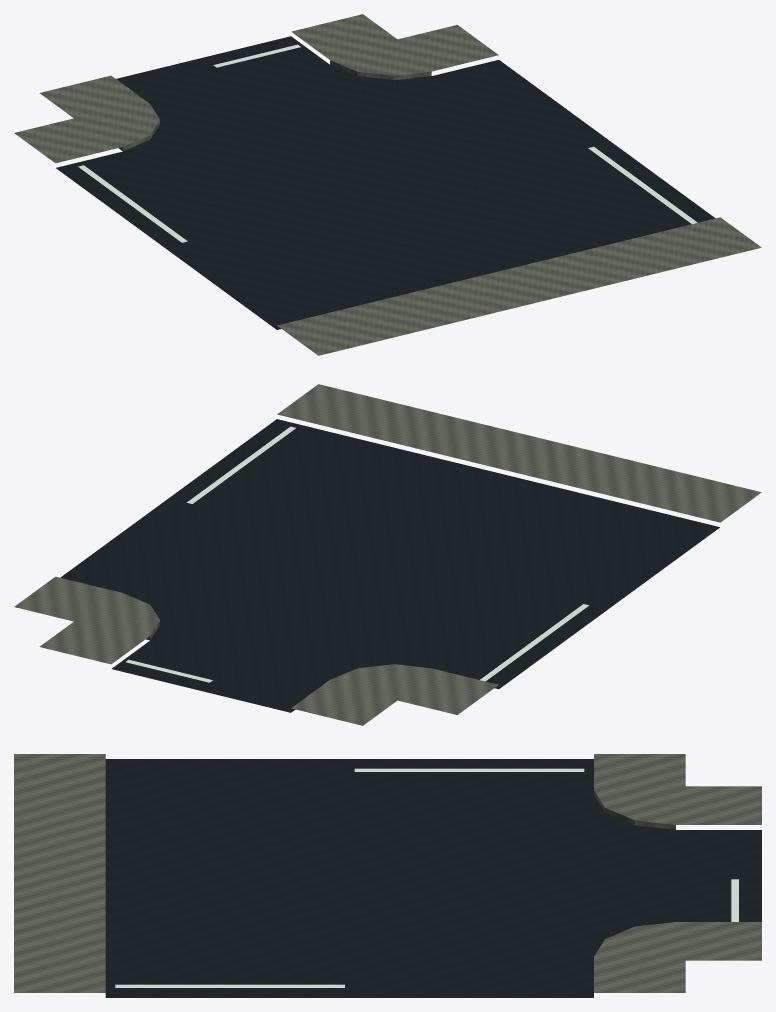
Rendered from junc_tee_4x2_LOD2.glb.
The picture shows the model from 3 angles, top to bottom: view 1: azimuth 30°, elevation 25°; view 2: azimuth 150°, elevation 25°; view 3: azimuth 270°, elevation 25°; orthographic projection. The views are drawn at different scales.
Visible parts, largest first — view 1: junc_tee_4x2__surface.002, junc_tee_4x2__rounded_corner_curb.002, junc_tee_4x2__stop_line_paint.002; view 2: junc_tee_4x2__surface.002, junc_tee_4x2__rounded_corner_curb.002, junc_tee_4x2__stop_line_paint.002; view 3: junc_tee_4x2__surface.002, junc_tee_4x2__rounded_corner_curb.002, junc_tee_4x2__stop_line_paint.002.
Boxes of the visible parts, left/top/right/bottom form: junc_tee_4x2__surface.002: left=56, top=36, right=715, bottom=329; junc_tee_4x2__rounded_corner_curb.002: left=14, top=14, right=761, bottom=355; junc_tee_4x2__stop_line_paint.002: left=78, top=44, right=697, bottom=242; junc_tee_4x2__surface.002: left=60, top=419, right=719, bottom=712; junc_tee_4x2__rounded_corner_curb.002: left=14, top=384, right=761, bottom=725; junc_tee_4x2__stop_line_paint.002: left=125, top=426, right=588, bottom=682; junc_tee_4x2__surface.002: left=105, top=759, right=761, bottom=997; junc_tee_4x2__rounded_corner_curb.002: left=14, top=754, right=761, bottom=992; junc_tee_4x2__stop_line_paint.002: left=115, top=768, right=738, bottom=987.
Size of the model in its own units: 14.8 by 0.145 by 19.6.
4 materials, 3 textured.
